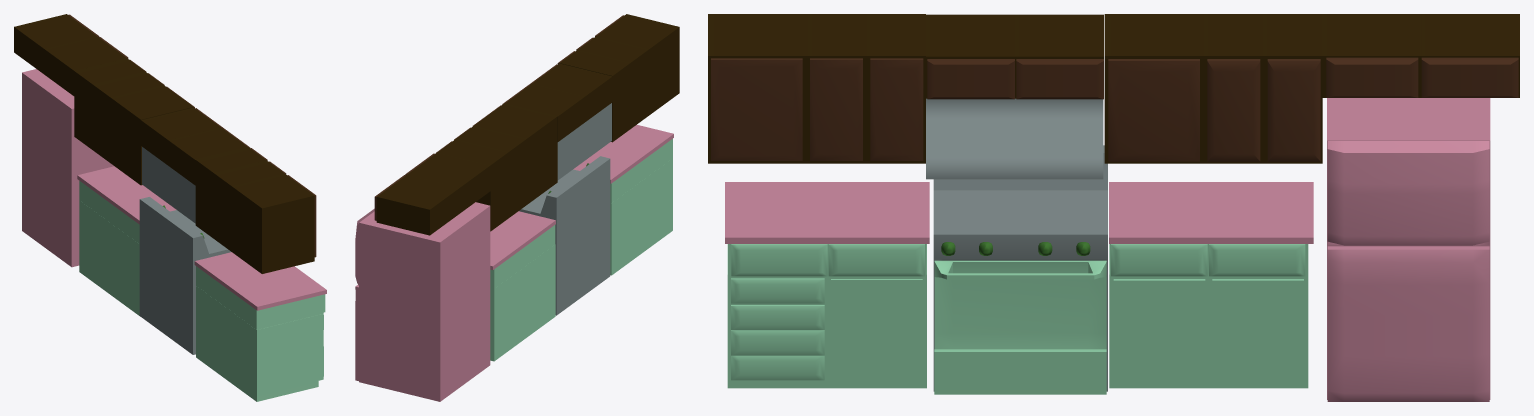
Rendered from Kitchen.fbx.
3 renders of one model, left to right at view 1: azimuth 30°, elevation 25°; view 2: azimuth 150°, elevation 25°; view 3: azimuth 270°, elevation 25°, orthographic. The views are drawn at different scales.
Visible parts, largest first — view 1: pCube21, pCube22, pCube8, pCube5, pCube28, pCube16, pCube15, pCube10, pCube1, pCube4, pCube9, pCube14 (+11 smaller); view 2: pCube21, pCube22, pCube10, pCube8, pCube16, pCube1, pCube15, pCube4, pCube17, pCube9, pCube5, pCube3 (+12 smaller); view 3: pCube26, pCube23, pCube30, pCube27, pCube22, pCube28, pCube63, pCube48, pCube49, pCube53, pCube59, pCube47 (+32 smaller).
Boxes of the visible parts, left/top/right/bottom form: pCube21: left=22, top=69, right=113, bottom=267; pCube22: left=139, top=197, right=231, bottom=354; pCube8: left=231, top=173, right=314, bottom=273; pCube5: left=226, top=308, right=323, bottom=401; pCube28: left=194, top=252, right=326, bottom=310; pCube16: left=110, top=84, right=193, bottom=185; pCube15: left=44, top=36, right=126, bottom=95; pCube10: left=14, top=14, right=96, bottom=74; pCube1: left=79, top=200, right=109, bottom=293; pCube4: left=196, top=286, right=226, bottom=379; pCube9: left=195, top=147, right=265, bottom=238; pCube14: left=213, top=160, right=283, bottom=251; pCube21: left=359, top=202, right=490, bottom=401; pCube22: left=519, top=156, right=610, bottom=315; pCube10: left=376, top=174, right=460, bottom=235; pCube8: left=596, top=14, right=679, bottom=115; pCube16: left=474, top=103, right=557, bottom=204; pCube1: left=490, top=267, right=524, bottom=361; pCube15: left=407, top=152, right=490, bottom=212; pCube4: left=610, top=181, right=642, bottom=275; pCube17: left=438, top=139, right=508, bottom=231; pCube9: left=559, top=50, right=630, bottom=142; pCube5: left=642, top=158, right=672, bottom=252; pCube3: left=525, top=244, right=555, bottom=338; pCube26: left=1327, top=246, right=1489, bottom=401; pCube23: left=1327, top=141, right=1489, bottom=245; pCube30: left=934, top=260, right=1106, bottom=349; pCube27: left=926, top=98, right=1103, bottom=179; pCube22: left=933, top=145, right=1107, bottom=391; pCube28: left=725, top=182, right=929, bottom=243; pCube63: left=1109, top=182, right=1313, bottom=243; pCube48: left=1113, top=279, right=1205, bottom=381; pCube49: left=1212, top=279, right=1303, bottom=381; pCube53: left=711, top=58, right=802, bottom=160; pCube59: left=1108, top=59, right=1199, bottom=161; pCube47: left=831, top=279, right=922, bottom=380.
Size of the model in its own units: 3.28 by 6.94 by 15.75.
